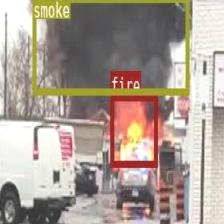fire: (110, 93, 156, 166)
smoke: (31, 0, 188, 93)
